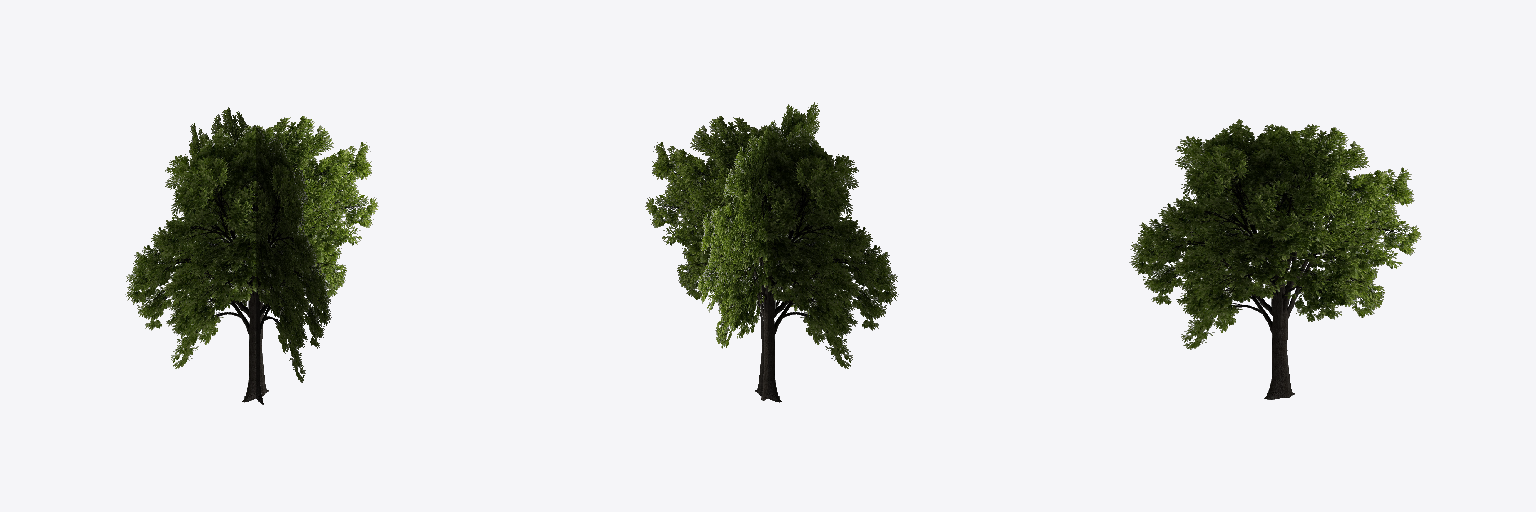
3 views of the same model, side by side, from view 1: azimuth 30°, elevation 25°; view 2: azimuth 150°, elevation 25°; view 3: azimuth 270°, elevation 25° (orthographic).
Parts seen in each view (by area): view 1: pPlane1, pPlane2; view 2: pPlane1, pPlane2; view 3: pPlane2.
Boxes of the visible parts, x1=… form: pPlane1: x1=125, y1=116, x2=378, y2=402; pPlane2: x1=189, y1=107, x2=331, y2=404; pPlane1: x1=645, y1=116, x2=898, y2=402; pPlane2: x1=697, y1=102, x2=841, y2=400; pPlane2: x1=1129, y1=119, x2=1421, y2=399.
Size of the model in its own units: 8 by 8 by 8.
1 materials, 1 textured.